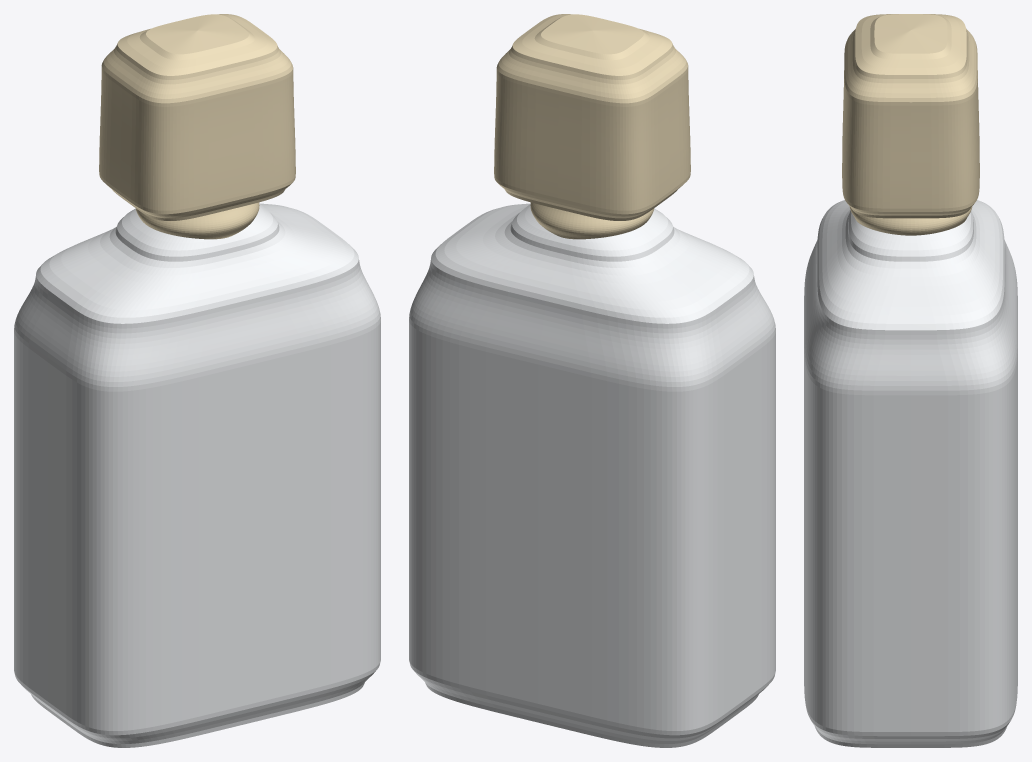
File: flacon.glb
3 renders of one model, left to right at view 1: azimuth 30°, elevation 25°; view 2: azimuth 150°, elevation 25°; view 3: azimuth 270°, elevation 25°, orthographic.
Visible parts, largest first — view 1: glass, cap, collar; view 2: glass, cap, collar; view 3: glass, cap, collar.
Boxes of the visible parts, x1,y1,x2,y2 form: glass: (14,203,380,747); cap: (99,14,295,220); collar: (135,202,259,239); glass: (409,203,775,747); cap: (494,14,690,220); collar: (530,202,654,239); glass: (804,200,1017,747); cap: (842,14,979,218); collar: (849,206,972,235).
Bounding box in the file's own units: 0.66 × 1.38 × 0.41.
